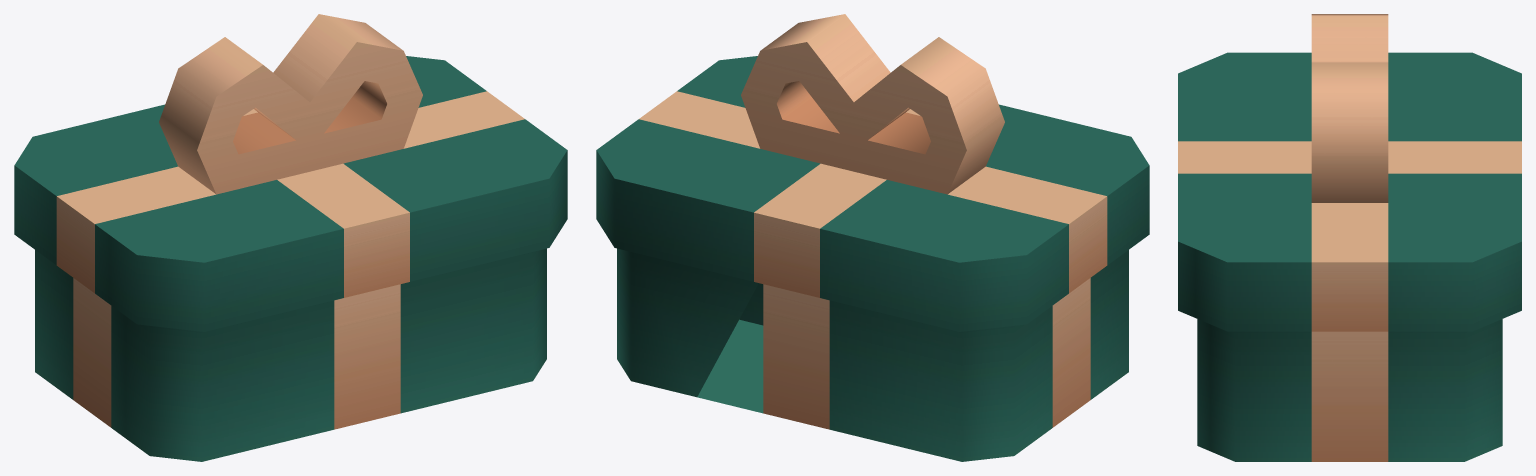
File: gift_rect.glb
3 renders of one model, left to right at view 1: azimuth 30°, elevation 25°; view 2: azimuth 150°, elevation 25°; view 3: azimuth 270°, elevation 25°, orthographic.
Parts seen in each view (by area): view 1: lid, present-b-rectangle; view 2: lid, present-b-rectangle; view 3: lid, present-b-rectangle.
Part boxes in pixels (x1,y1,x2,y2): lid: (14, 14, 567, 331); present-b-rectangle: (35, 248, 546, 461); lid: (596, 14, 1149, 331); present-b-rectangle: (617, 248, 1128, 461); lid: (1178, 14, 1521, 331); present-b-rectangle: (1197, 319, 1502, 461).
Size of the model in its own units: 0.3452 by 0.25 by 0.239.
Materials: 1 (1 with a texture image).
